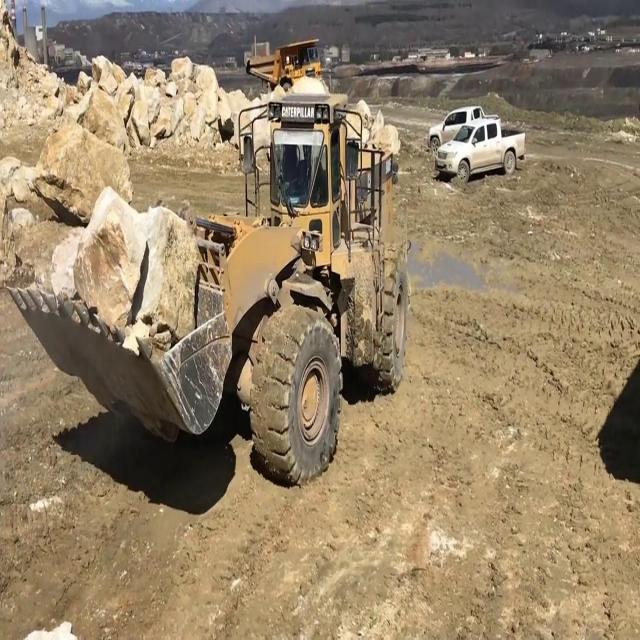Dump Truck: (244, 36, 322, 86)
Loader: (4, 90, 412, 492)
